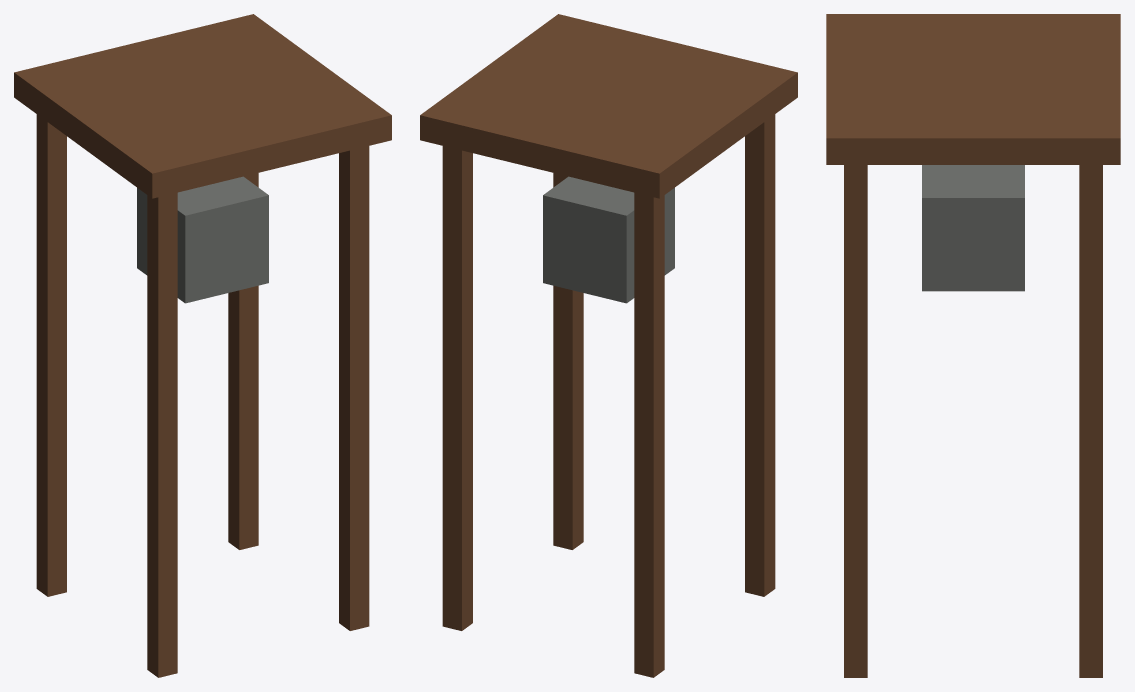
Rendered from Bell-tower.glb.
3 views of the same model, side by side, from view 1: azimuth 30°, elevation 25°; view 2: azimuth 150°, elevation 25°; view 3: azimuth 270°, elevation 25° (orthographic). The views are drawn at different scales.
Parts seen in each view (by area): view 1: bell-tower-static-bell-timber, bell-tower-static-bell-metal; view 2: bell-tower-static-bell-timber, bell-tower-static-bell-metal; view 3: bell-tower-static-bell-timber, bell-tower-static-bell-metal.
Boxes of the visible parts, bbox=[...] form: bell-tower-static-bell-timber: bbox=[14, 14, 391, 677]; bell-tower-static-bell-metal: bbox=[137, 176, 268, 303]; bell-tower-static-bell-timber: bbox=[420, 14, 797, 677]; bell-tower-static-bell-metal: bbox=[543, 176, 674, 303]; bell-tower-static-bell-timber: bbox=[826, 14, 1120, 677]; bell-tower-static-bell-metal: bbox=[922, 165, 1024, 291].
Bounding box in the file's own units: 2 × 4.1 × 2.
